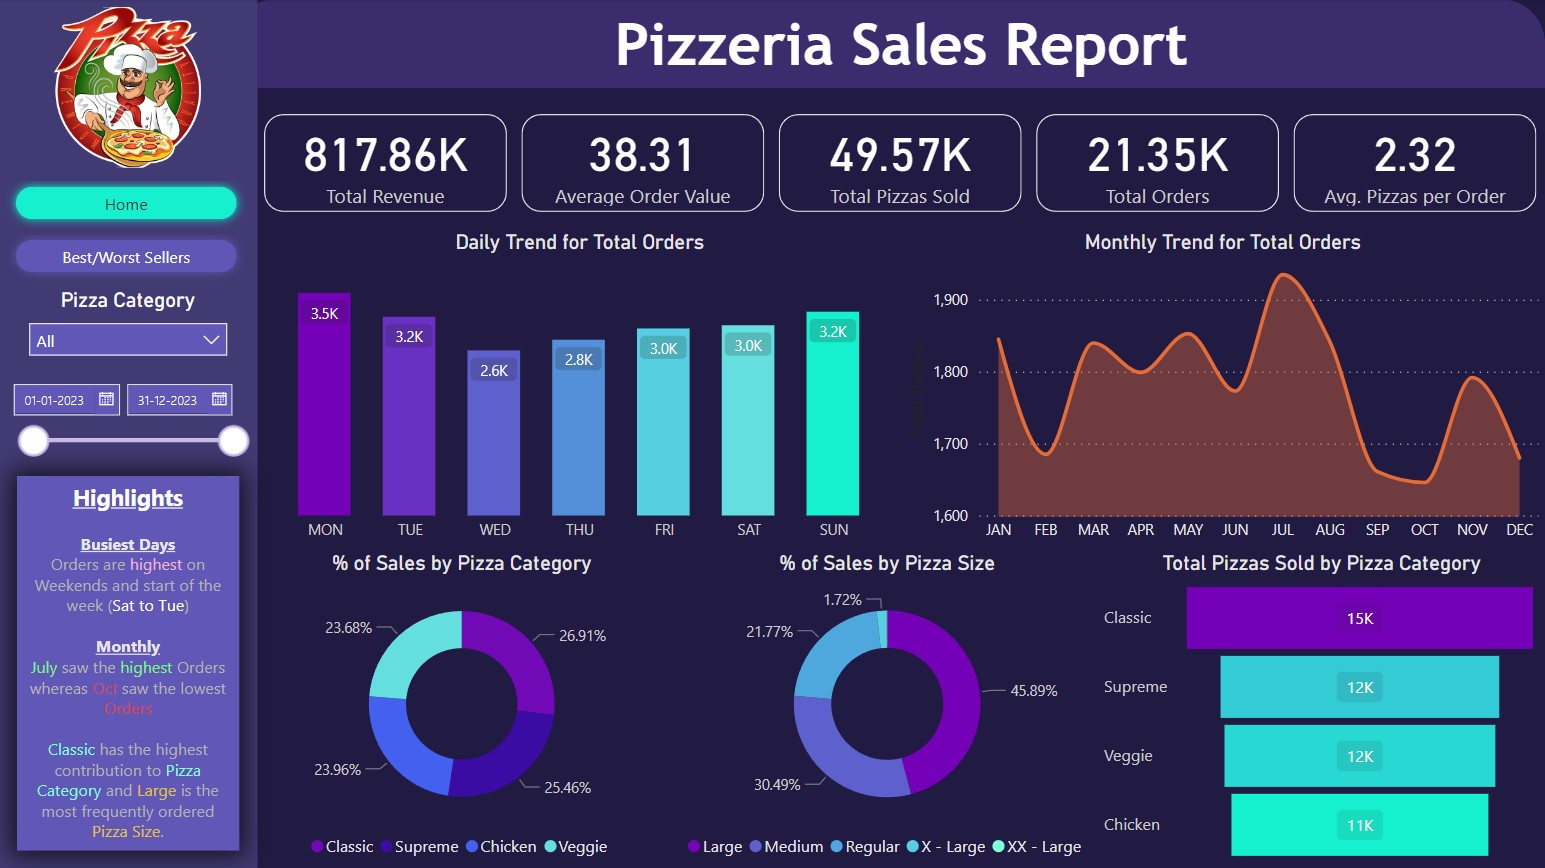

The dashboard page shown, as its layout file describes it:
{"tool":"powerbi","page":{"name":"Home","canvas":[1280,720],"ordinal":0},"visuals":[{"type":"cardVisual","fields":{"Data":["KPI's.Total Revenue","KPI's.Average Order Value","KPI's.Total Pizzas Sold","KPI's.Total Orders","KPI's.Avg. Pizzas per Order"]},"box":[214.8,90.4,1065.2,91.4],"z":0},{"type":"shape","box":[192.4,0,1087.6,73.9],"z":1000},{"type":"shape","box":[0,0,214.8,720.2],"z":2000},{"type":"textbox","box":[215.1,0,1065.1,73.8],"z":3000},{"type":"image","box":[0,1.9,214.8,142.9],"z":4000},{"type":"clusteredColumnChart","title":"Daily Trend for Total Orders","fields":{"Category":["pizza_sales.Order Day"],"Y":["KPI's.Total Orders"]},"box":[214.8,191.5,532.6,266.3],"z":5000},{"type":"areaChart","title":"Monthly Trend for Total Orders","fields":{"Category":["pizza_sales.Order Month"],"Y":["KPI's.Total Orders"]},"box":[747.4,191.5,532.6,266.3],"z":6000},{"type":"donutChart","title":"% of Sales by Pizza Category","fields":{"Category":["pizza_sales.pizza_category"],"Y":["KPI's.Total Revenue"]},"box":[214.8,456.8,337.3,263.4],"z":7000},{"type":"donutChart","title":"% of Sales by Pizza Size","fields":{"Y":["KPI's.Total Revenue"],"Category":["pizza_sales.pizza_size"]},"box":[561.8,456.8,347.9,263.4],"z":8000},{"type":"funnel","title":"Total Pizzas Sold by Pizza Category","fields":{"Category":["pizza_sales.pizza_category"],"Y":["KPI's.Total Pizzas Sold"]},"box":[910,457,370,263],"z":9000},{"type":"textbox","box":[15.8,395.1,183.5,310],"z":10000},{"type":"slicer","title":"Pizza Category","fields":{"Values":["pizza_sales.pizza_category"]},"box":[15.8,238.8,183.5,64.1],"z":11000},{"type":"slicer","fields":{"Values":["pizza_sales.order_date"]},"box":[0,309.1,215.1,74.6],"z":12000},{"type":"pageNavigator","box":[7,147.5,199.3,43.9],"z":13000},{"type":"pageNavigator","box":[7,191.4,199.3,43.9],"z":13001}]}

Visuals, with their boxes in screenshot pixels (x1, y1, x2, y2), scaled from the page's 1280x720 canvas onto the 1545x868 screenshot:
cardVisual - KPI's.Total Revenue x KPI's.Average Order Value: (x1=259, y1=109, x2=1544, y2=219)
shape: (x1=232, y1=0, x2=1544, y2=89)
shape: (x1=0, y1=0, x2=259, y2=867)
textbox: (x1=260, y1=0, x2=1544, y2=89)
image: (x1=0, y1=2, x2=259, y2=175)
"Daily Trend for Total Orders" clusteredColumnChart: (x1=259, y1=231, x2=902, y2=552)
"Monthly Trend for Total Orders" areaChart: (x1=902, y1=231, x2=1544, y2=552)
"% of Sales by Pizza Category" donutChart: (x1=259, y1=551, x2=666, y2=867)
"% of Sales by Pizza Size" donutChart: (x1=678, y1=551, x2=1098, y2=867)
"Total Pizzas Sold by Pizza Category" funnel: (x1=1098, y1=551, x2=1544, y2=867)
textbox: (x1=19, y1=476, x2=241, y2=850)
"Pizza Category" slicer: (x1=19, y1=288, x2=241, y2=365)
slicer - pizza_sales.order_date: (x1=0, y1=373, x2=260, y2=463)
pageNavigator: (x1=8, y1=178, x2=249, y2=231)
pageNavigator: (x1=8, y1=231, x2=249, y2=284)
